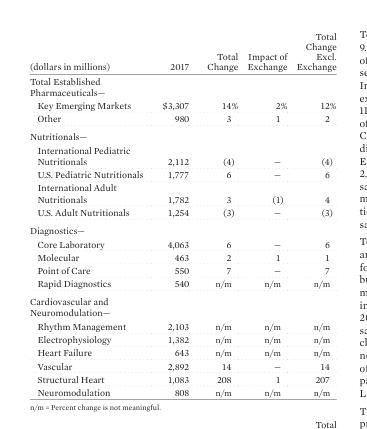table: (28, 29, 335, 397)
table column: (28, 29, 151, 397), (241, 29, 291, 397), (151, 29, 197, 397), (197, 29, 241, 397), (291, 29, 335, 397)
table column header: (28, 29, 335, 72)
table projected row header: (28, 291, 335, 318), (28, 72, 335, 97), (28, 126, 335, 142), (28, 220, 335, 236)
table row: (28, 29, 335, 72), (28, 291, 335, 318), (28, 72, 335, 97), (28, 142, 335, 166), (28, 180, 335, 204), (28, 110, 335, 126), (28, 126, 335, 142), (28, 204, 335, 220), (28, 220, 335, 236), (28, 275, 335, 291), (28, 166, 335, 180), (28, 318, 335, 332), (28, 97, 335, 110), (28, 236, 335, 249), (28, 249, 335, 262), (28, 262, 335, 275), (28, 332, 335, 345), (28, 345, 335, 358), (28, 358, 335, 371), (28, 371, 335, 384), (28, 384, 335, 397)
